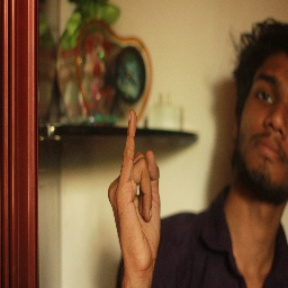I: (104, 110, 168, 266)
